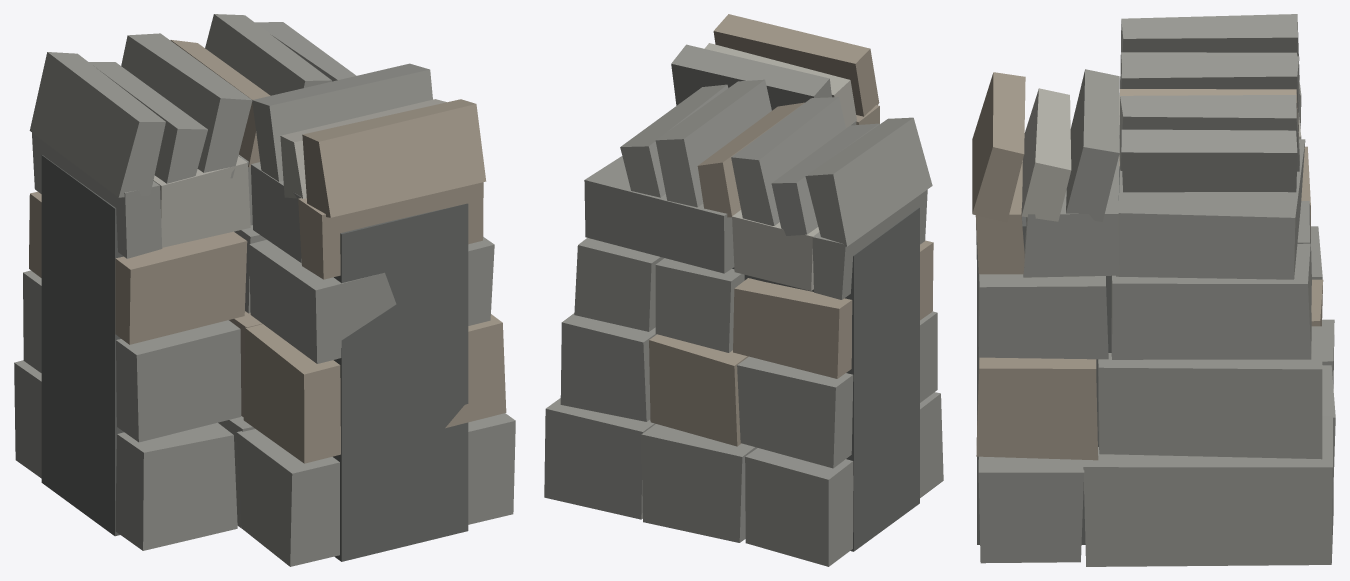
The model's file is wall_dry_corner.glb.
The picture shows the model from 3 angles, left to right: view 1: azimuth 30°, elevation 25°; view 2: azimuth 150°, elevation 25°; view 3: azimuth 270°, elevation 25°; orthographic projection. The views are drawn at different scales.
Visible parts, largest first — view 1: wall_dry_corner; view 2: wall_dry_corner; view 3: wall_dry_corner.
Part boxes in pixels (box(x1,y1,x2,y2)): wall_dry_corner: box(14, 14, 515, 566); wall_dry_corner: box(544, 14, 943, 566); wall_dry_corner: box(972, 14, 1335, 566).
Bounding box in the file's own units: 0.7835 × 0.9713 × 0.7816.
